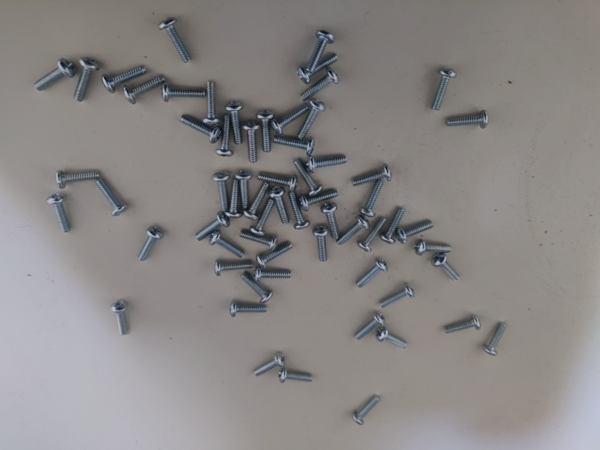shortscrew: (158, 17, 192, 63), (34, 58, 77, 92), (300, 67, 340, 102), (123, 75, 167, 105), (102, 65, 147, 94), (307, 30, 336, 74), (298, 53, 339, 84), (272, 103, 310, 136), (96, 179, 128, 218), (179, 115, 221, 144), (74, 58, 101, 103), (298, 99, 327, 140), (293, 159, 324, 197), (431, 68, 458, 111), (358, 216, 388, 253), (195, 212, 231, 242), (241, 272, 274, 304), (337, 215, 371, 246), (256, 242, 293, 270), (243, 183, 270, 221), (356, 258, 389, 289), (46, 193, 71, 233), (209, 231, 246, 258), (380, 207, 406, 245), (396, 220, 435, 245), (360, 179, 385, 218), (250, 198, 275, 237), (162, 81, 206, 103), (351, 164, 393, 187), (137, 226, 164, 261), (352, 395, 381, 427), (299, 189, 339, 212), (378, 284, 415, 308), (482, 322, 507, 357), (355, 313, 386, 341), (224, 102, 244, 145), (431, 253, 460, 282), (56, 171, 100, 190), (289, 192, 311, 230), (268, 187, 290, 225), (253, 352, 286, 377), (240, 231, 279, 252), (256, 110, 275, 153), (203, 81, 221, 126), (444, 315, 482, 336), (306, 155, 348, 174), (215, 115, 234, 157), (257, 173, 298, 192), (446, 111, 489, 129), (242, 121, 260, 164), (376, 327, 409, 350), (212, 172, 231, 211), (235, 170, 254, 209), (274, 137, 315, 155), (321, 203, 340, 240), (225, 179, 242, 219), (111, 300, 129, 336), (215, 260, 253, 277), (313, 226, 330, 263), (230, 301, 268, 317), (415, 240, 452, 256), (279, 368, 314, 383)
